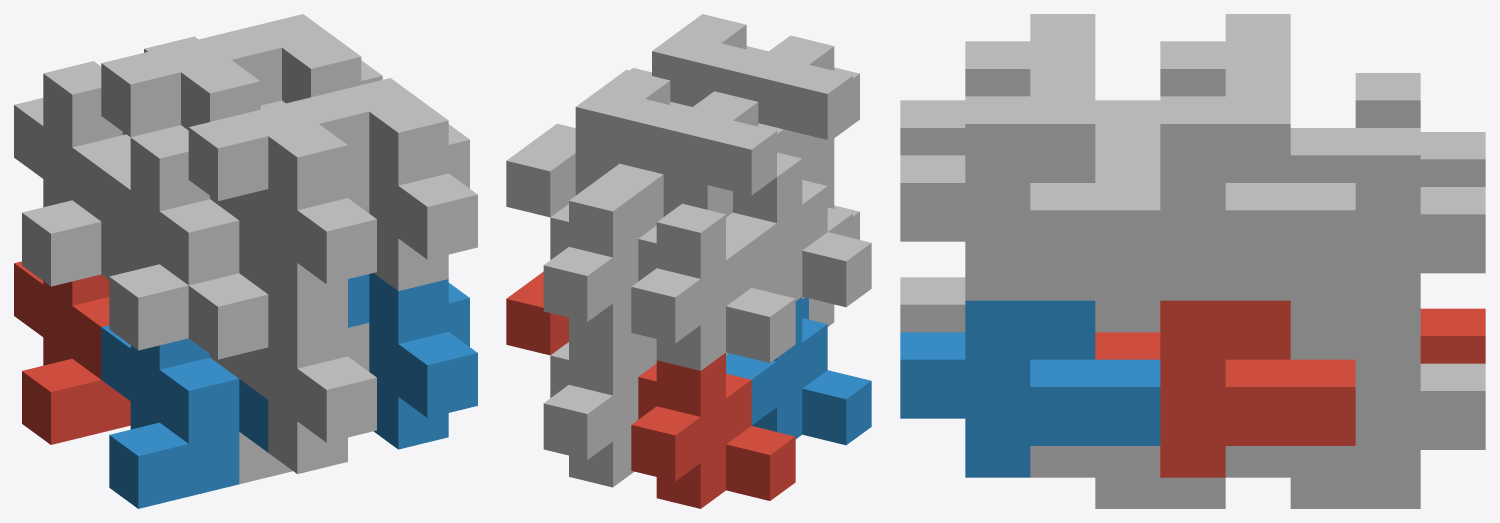
Rendered from tiling.obj.
3 renders of one model, left to right at view 1: azimuth 30°, elevation 25°; view 2: azimuth 150°, elevation 25°; view 3: azimuth 270°, elevation 25°, orthographic. The views are drawn at different scales.
Visible parts, largest first — view 1: copy_2_domain_4, copy_2_domain_2, copy_1_domain_4, copy_2_domain_8, copy_1_domain_2, copy_1_domain_3, copy_2_domain_6, copy_1_domain_1, copy_2_domain_3, copy_2_domain_7, copy_2_domain_1, copy_1_domain_6; view 2: copy_1_domain_3, copy_1_domain_1, copy_2_domain_7, copy_2_domain_3, copy_1_domain_4, copy_1_domain_7, copy_1_domain_5, copy_2_domain_4, copy_1_domain_2, copy_2_domain_8, copy_2_domain_5, copy_2_domain_2 (+1 smaller); view 3: copy_2_domain_8, copy_2_domain_7, copy_2_domain_6, copy_2_domain_5, copy_1_domain_7, copy_1_domain_5, copy_2_domain_4, copy_2_domain_3, copy_1_domain_6, copy_1_domain_3, copy_1_domain_8, copy_1_domain_1 (+2 smaller).
Boxes of the visible parts, left/top/right/bottom form: copy_2_domain_4: left=188, top=102, right=376, bottom=315; copy_2_domain_2: left=188, top=273, right=376, bottom=473; copy_1_domain_4: left=101, top=125, right=268, bottom=350; copy_2_domain_8: left=290, top=78, right=477, bottom=290; copy_1_domain_2: left=101, top=325, right=268, bottom=508; copy_1_domain_3: left=14, top=61, right=130, bottom=286; copy_2_domain_6: left=348, top=273, right=477, bottom=449; copy_1_domain_1: left=14, top=261, right=130, bottom=444; copy_2_domain_3: left=101, top=38, right=260, bottom=219; copy_2_domain_7: left=202, top=14, right=382, bottom=105; copy_2_domain_1: left=101, top=222, right=239, bottom=378; copy_1_domain_6: left=239, top=432, right=292, bottom=484; copy_1_domain_3: left=631, top=203, right=795, bottom=370; copy_1_domain_1: left=631, top=353, right=795, bottom=508; copy_2_domain_7: left=506, top=69, right=692, bottom=217; copy_2_domain_3: left=594, top=91, right=783, bottom=238; copy_1_domain_4: left=726, top=152, right=871, bottom=307; copy_1_domain_7: left=543, top=182, right=638, bottom=349; copy_1_domain_5: left=543, top=333, right=638, bottom=487; copy_2_domain_4: left=739, top=35, right=859, bottom=188; copy_1_domain_2: left=726, top=297, right=871, bottom=445; copy_2_domain_8: left=630, top=14, right=768, bottom=106; copy_2_domain_5: left=506, top=271, right=568, bottom=355; copy_2_domain_2: left=802, top=184, right=859, bottom=326; copy_2_domain_8: left=900, top=69, right=1160, bottom=300; copy_2_domain_7: left=1095, top=69, right=1355, bottom=300; copy_2_domain_6: left=900, top=300, right=1160, bottom=477; copy_2_domain_5: left=1095, top=300, right=1355, bottom=477; copy_1_domain_7: left=1225, top=128, right=1485, bottom=332; copy_1_domain_5: left=1225, top=332, right=1485, bottom=508; copy_2_domain_4: left=900, top=14, right=1160, bottom=155; copy_2_domain_3: left=1095, top=14, right=1355, bottom=182; copy_1_domain_6: left=1030, top=446, right=1225, bottom=508; copy_1_domain_3: left=1355, top=73, right=1485, bottom=186; copy_1_domain_8: left=1030, top=269, right=1160, bottom=332; copy_1_domain_1: left=1420, top=308, right=1485, bottom=363.
Bounding box in the file's own units: 6 × 7 × 9.
